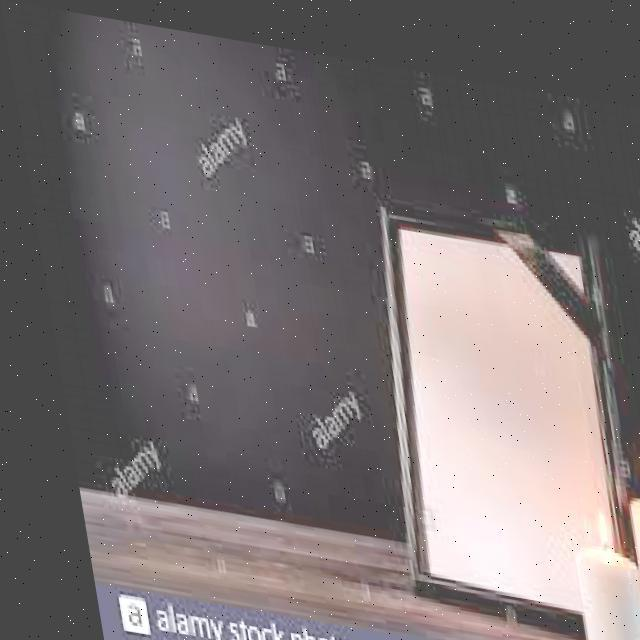Fire: (570, 478, 596, 526), (629, 429, 639, 479)
